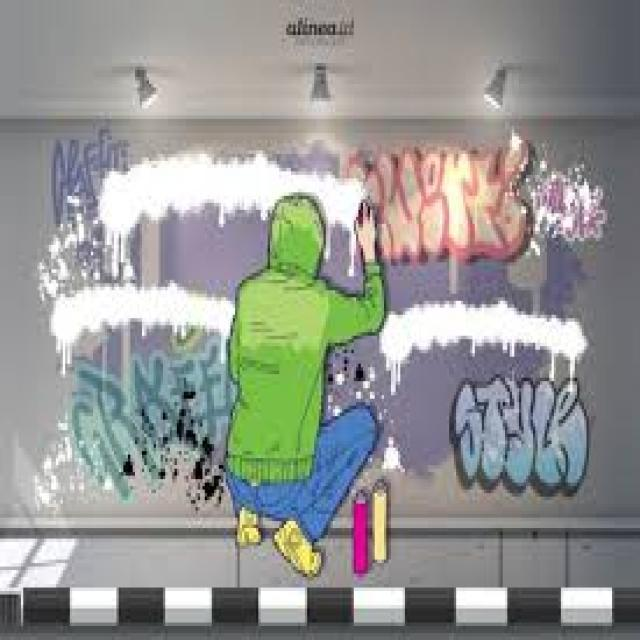-: (35, 127, 608, 577), (344, 133, 534, 269), (70, 346, 231, 502), (446, 374, 590, 498), (52, 125, 132, 222)
